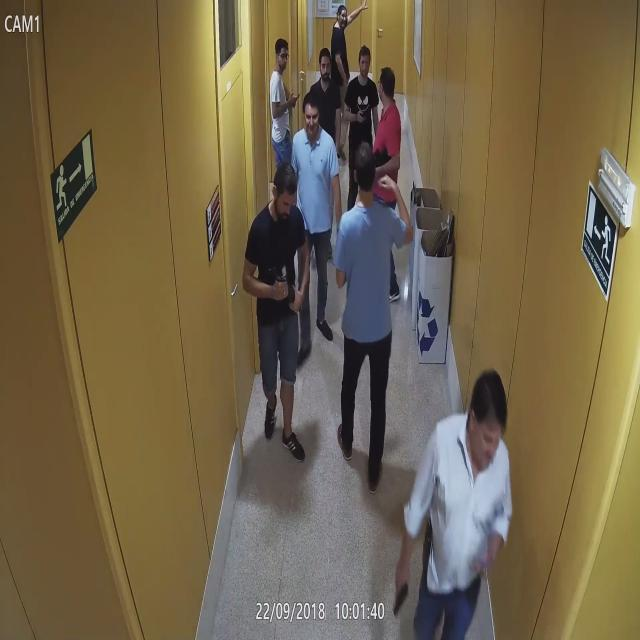Gun: (386, 572, 416, 623)
